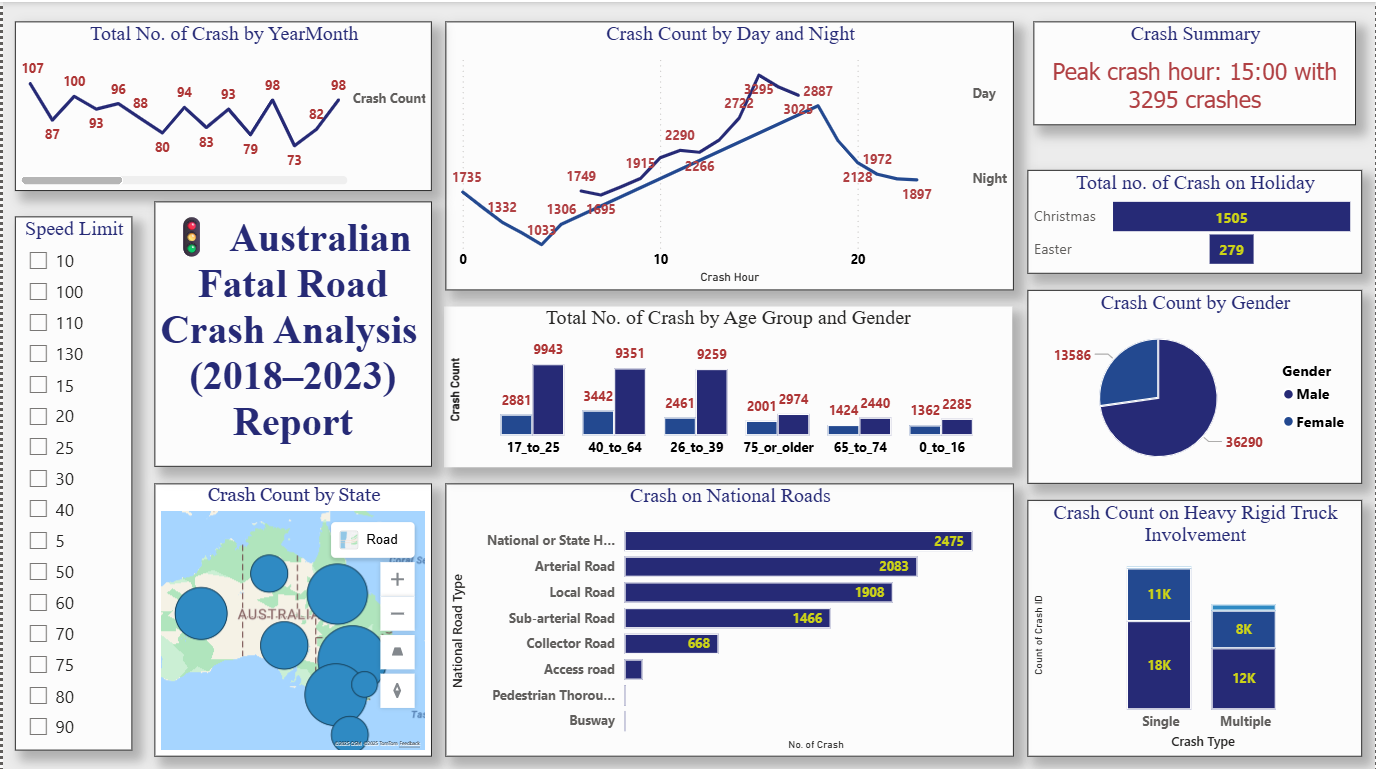

The page's visual inventory and layout, read from the dashboard file:
{"tool":"powerbi","page":{"name":"Dashboard_CrashCount","canvas":[1280,720],"ordinal":12},"visuals":[{"type":"azureMap","fields":{"Category":["ardd_fatalities.State"],"Size":["ardd_fatalities.Crash Count"]},"box":[141.3,449.1,258.8,254.6],"z":0},{"type":"card","title":"Crash Summary","fields":{"Values":["ardd_fatalities.Peak Crash Summary"]},"box":[961.1,18.2,300.8,96.5],"z":1000},{"type":"lineChart","title":"Crash Count by Day and Night","fields":{"Series":["ardd_fatalities.Time of day"],"Category":["ardd_fatalities.Crash Hour"],"Y":["ardd_fatalities.Crash Count"]},"box":[412.7,18.2,530.2,250.4],"z":2000},{"type":"clusteredBarChart","title":"Crash on National Roads","fields":{"Category":["ardd_fatalities.National Road Type"],"Y":["CountNonNull(ardd_fatalities.Crash ID)"]},"box":[412.7,449.1,530.2,254.6],"z":3000},{"type":"clusteredColumnChart","title":"Total No. of Crash by Age Group","fields":{"Category":["ardd_fatalities.Age Group"],"Series":["ardd_fatalities.Gender"],"Y":["ardd_fatalities.Crash Count"]},"box":[411.3,284,530.2,149.7],"z":4000},{"type":"columnChart","title":"Crash Count on Heavy Rigid Truck Involvement","fields":{"Category":["ardd_fatalities.Crash Type"],"Y":["CountNonNull(ardd_fatalities.Crash ID)"],"Series":["ardd_fatalities.Heavy Rigid Truck Involvement"]},"box":[955.5,464.5,312,239.2],"z":5000},{"type":"funnel","title":"Total no. of Crash on Holiday","fields":{"Y":["ardd_fatalities.Crash Count"],"Category":["ardd_fatalities.Holiday Period"]},"box":[955.5,156.7,312,96.5],"z":6000},{"type":"pieChart","fields":{"Category":["ardd_fatalities.Gender"],"Y":["ardd_fatalities.Crash Count"]},"box":[955.5,268.6,312,180.5],"z":7000},{"type":"slicer","title":"Speed Limit","fields":{"Values":["ardd_fatalities.Speed Limit"]},"box":[11.2,200.1,109.1,498],"z":8000},{"type":"lineChart","title":"Total No. of Crash by YearMonth","fields":{"Category":["calendar (2).YearMonth"],"Y":["ardd_fatalities.Crash Count"]},"box":[11.2,18.2,388.9,158.1],"z":9000},{"type":"textbox","box":[141.3,186.1,258.8,247.6],"z":10000}]}

Visuals, with their boxes in screenshot pixels (x1, y1, x2, y2), scaled from the page's 1280x720 canvas onto the 1376x769 screenshot:
azureMap - ardd_fatalities.State x ardd_fatalities.Crash Count: (152,480,430,752)
"Crash Summary" card: (1033,19,1357,123)
"Crash Count by Day and Night" lineChart: (444,19,1014,287)
"Crash on National Roads" clusteredBarChart: (444,480,1014,752)
"Total No. of Crash by Age Group" clusteredColumnChart: (442,303,1012,463)
"Crash Count on Heavy Rigid Truck Involvement" columnChart: (1027,496,1363,752)
"Total no. of Crash on Holiday" funnel: (1027,167,1363,270)
pieChart - ardd_fatalities.Gender x ardd_fatalities.Crash Count: (1027,287,1363,480)
"Speed Limit" slicer: (12,214,129,746)
"Total No. of Crash by YearMonth" lineChart: (12,19,430,188)
textbox: (152,199,430,463)
